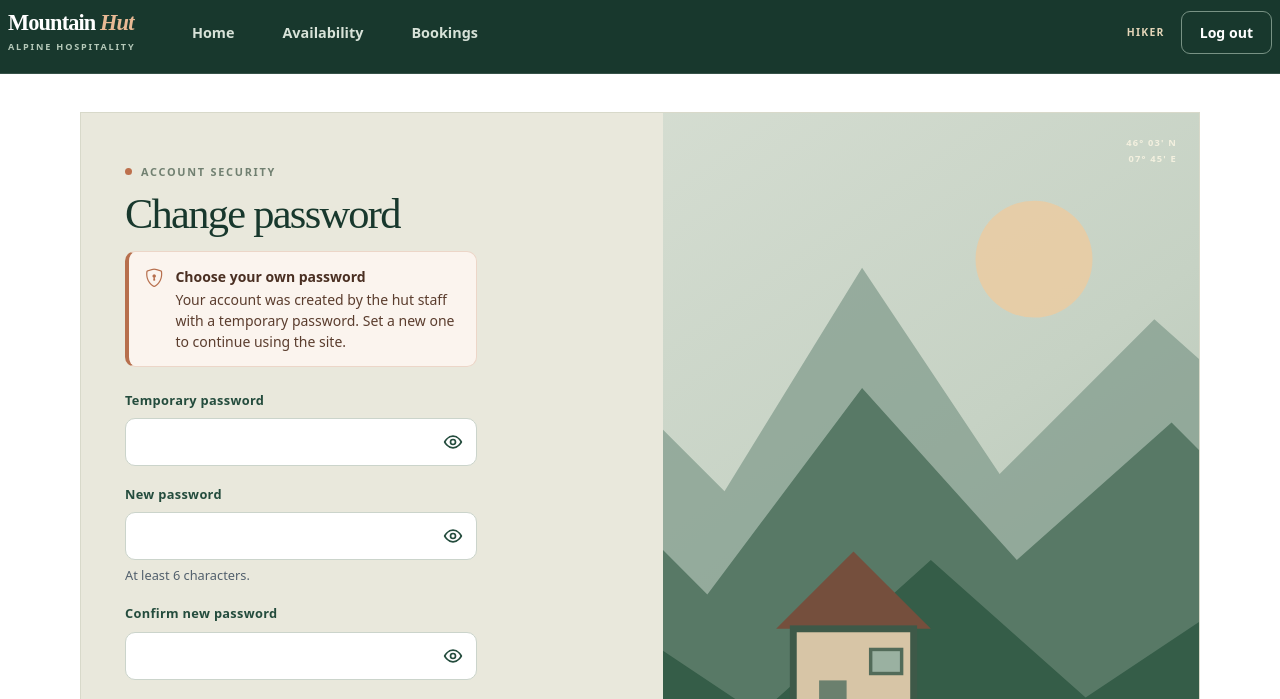
Test case: forced password change › successful change unlocks the protected pages
Type "oldpass" into the password field labelled "Temporary password" at point(301, 442), box [125,418,477,466]
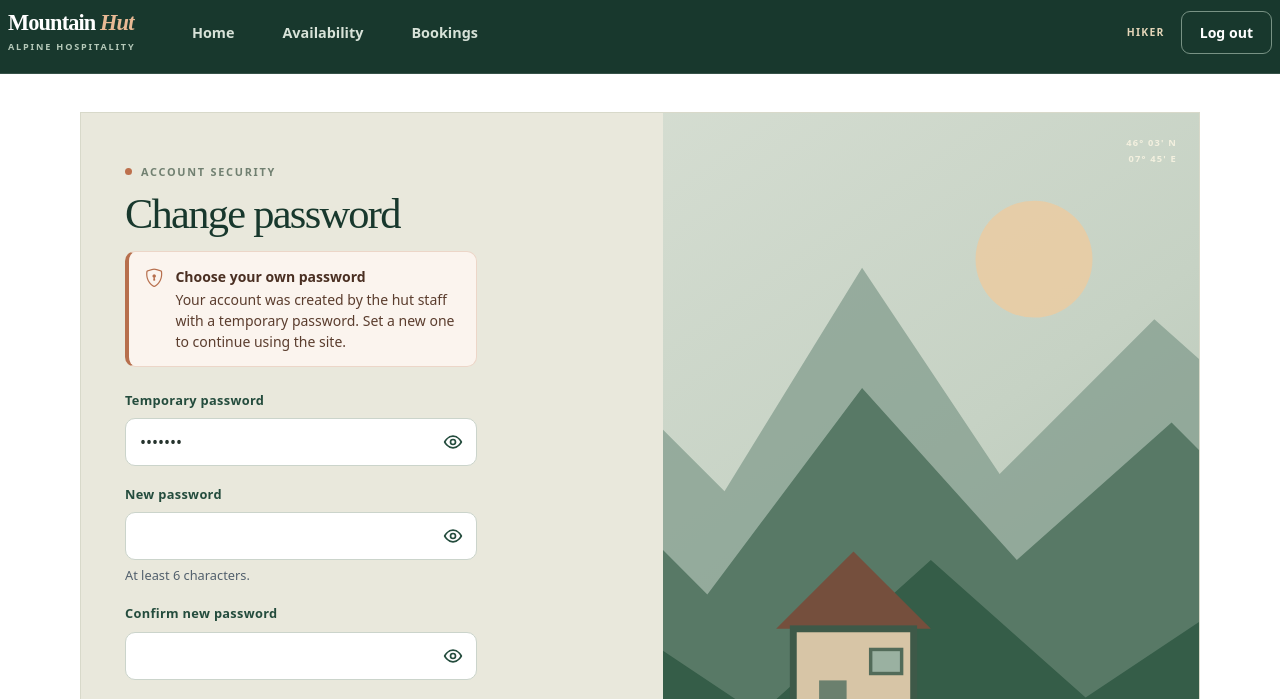
Type "newpass1" into the password field labelled "New password" at point(301, 536), box [125,512,477,560]
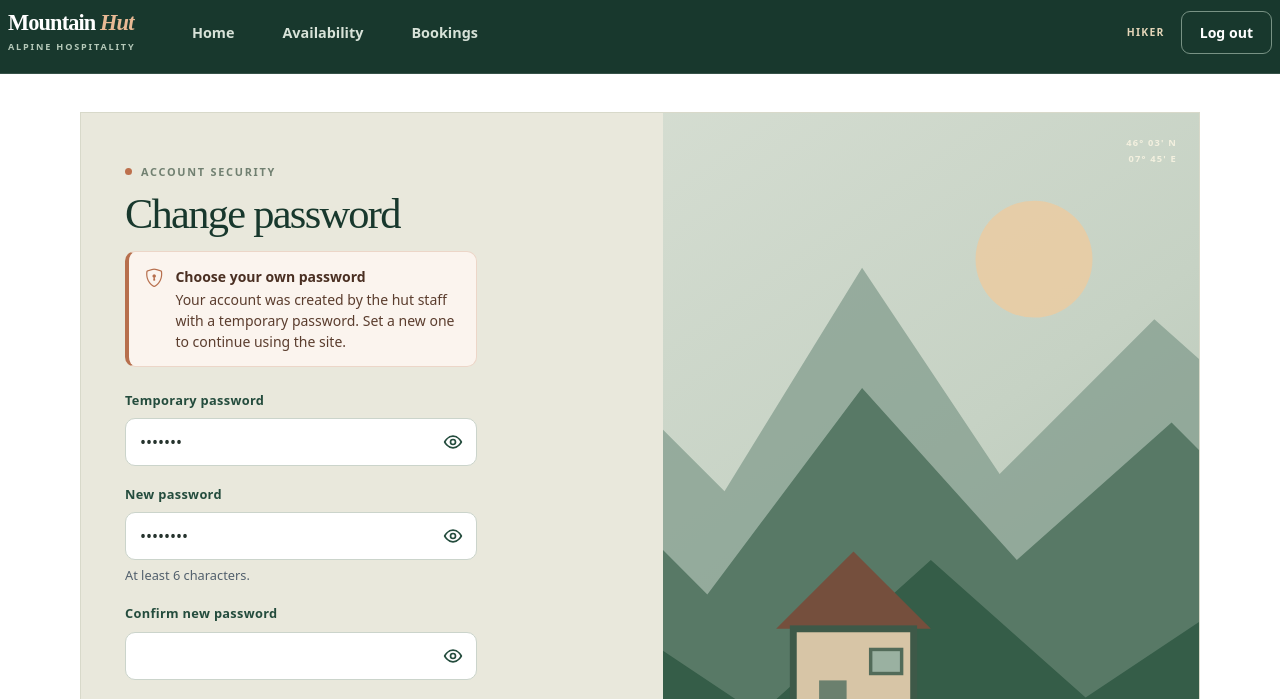
Type "newpass1" into the password field labelled "Confirm new password" at point(301, 656), box [125,632,477,680]
(page scrolled)
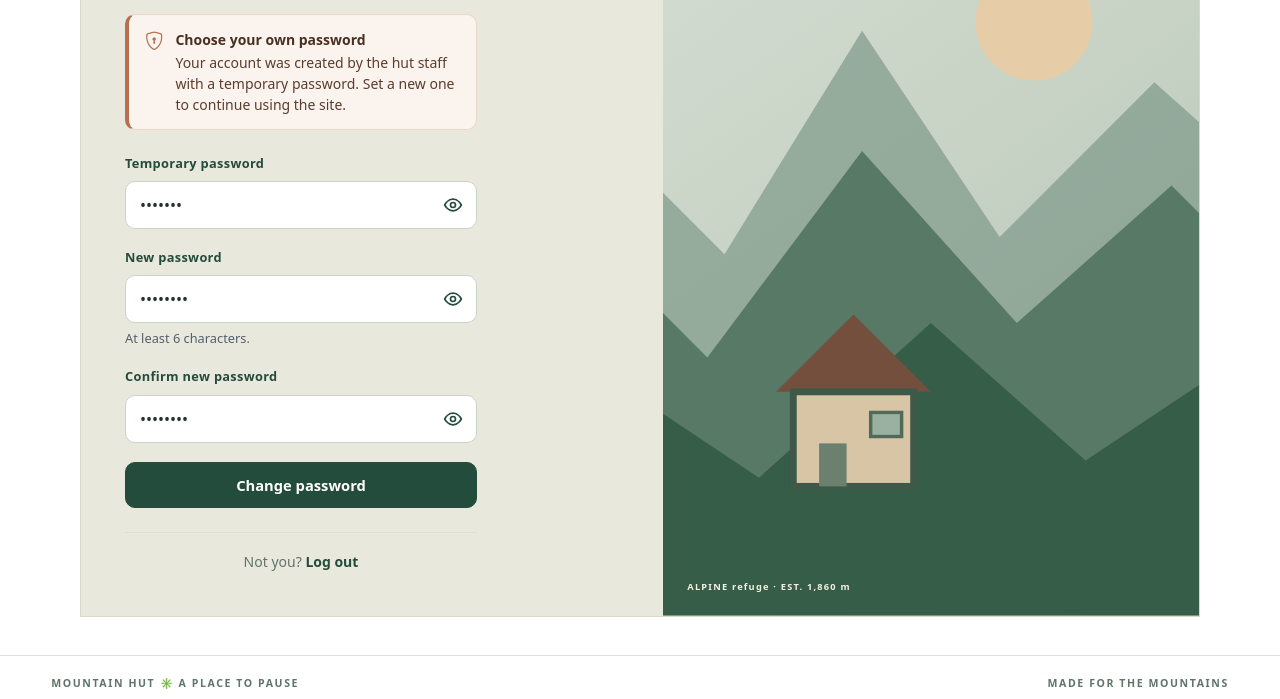
Click the button "Change password" at point(301, 485), box [125,462,477,508]
(page scrolled)
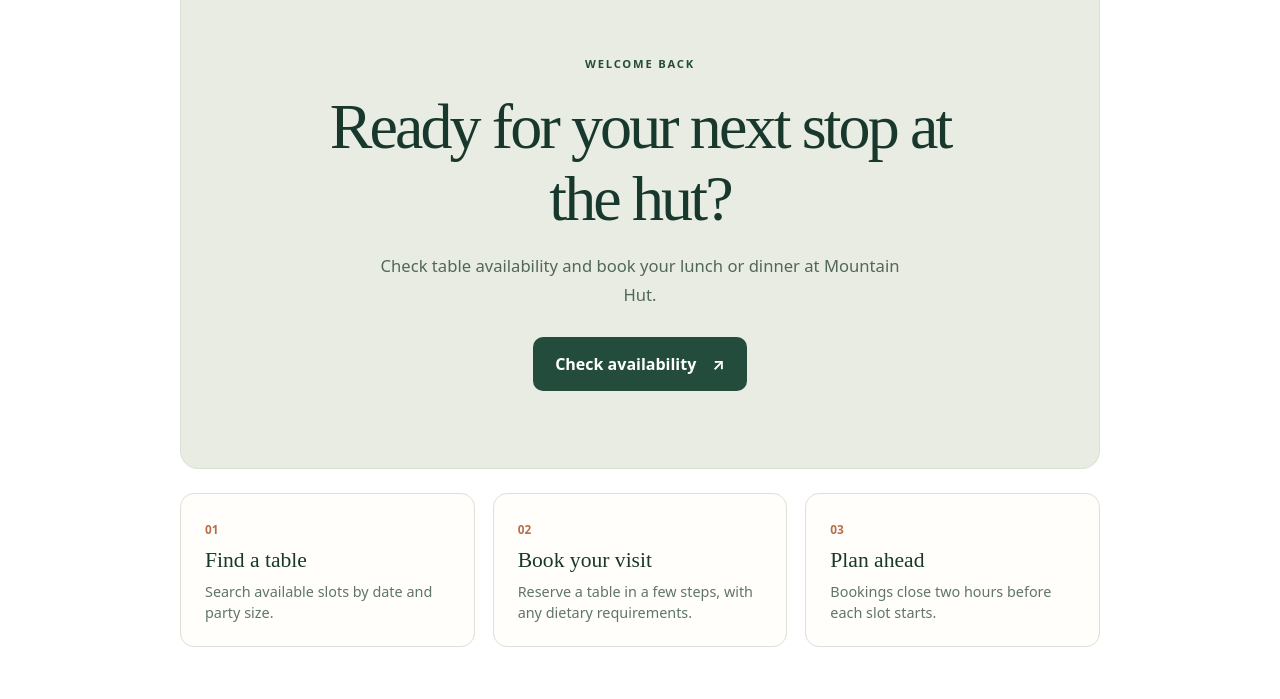
Now the heading "Ready for your next stop at the hut?" is shown, box [295,91,985,234]
